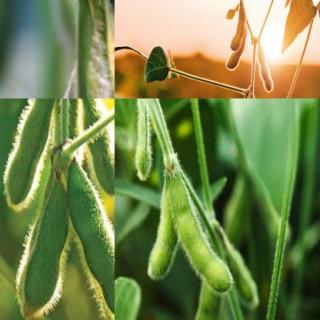soya: (67, 162, 114, 319), (170, 173, 232, 292), (20, 186, 68, 320), (2, 99, 58, 210), (80, 99, 114, 198), (146, 189, 178, 280), (135, 102, 152, 182), (182, 288, 224, 319), (257, 43, 273, 92), (230, 2, 245, 50), (223, 52, 244, 72)
